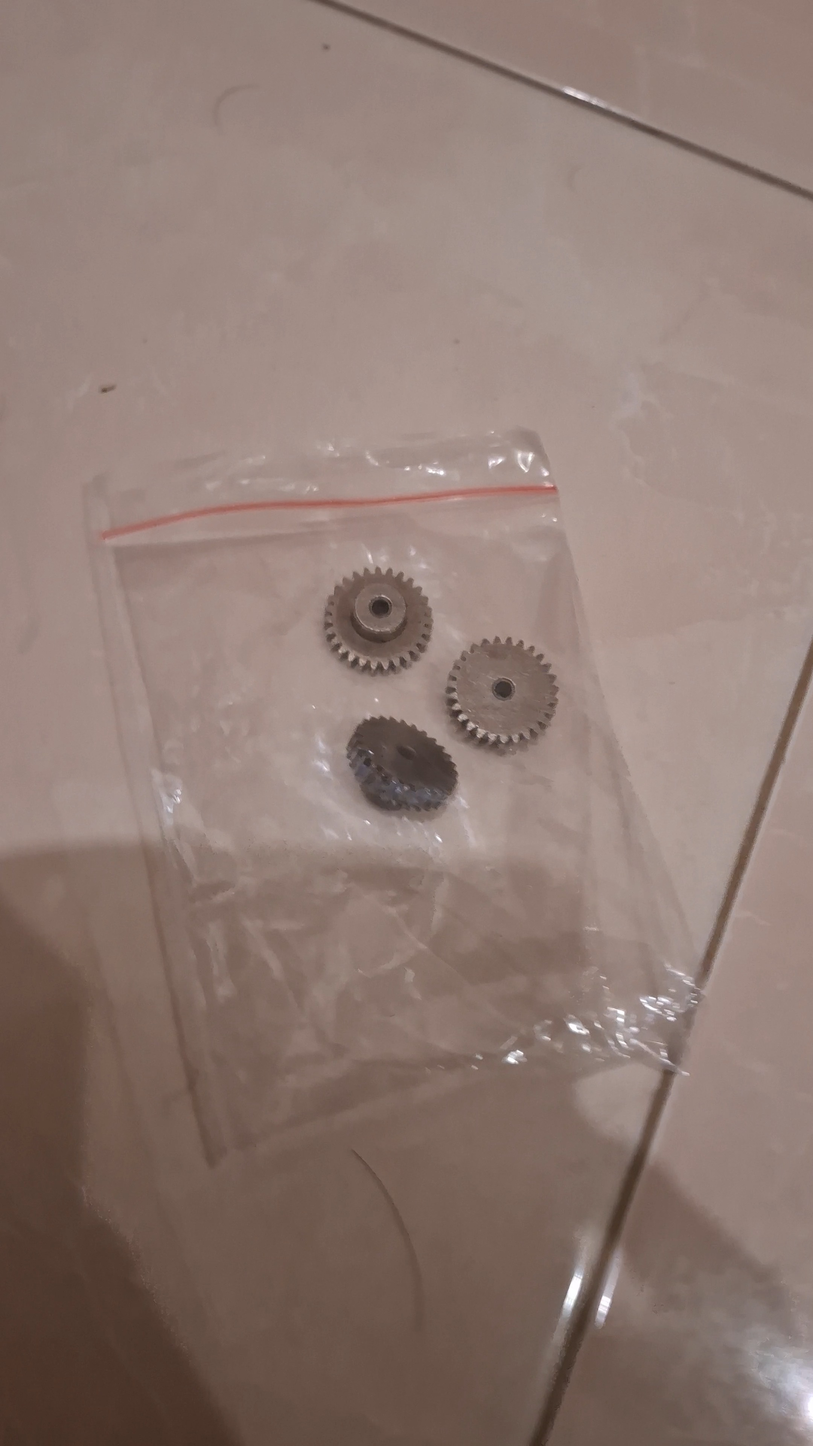spur gear: (442, 637, 562, 752), (321, 566, 435, 674), (343, 714, 459, 812)
